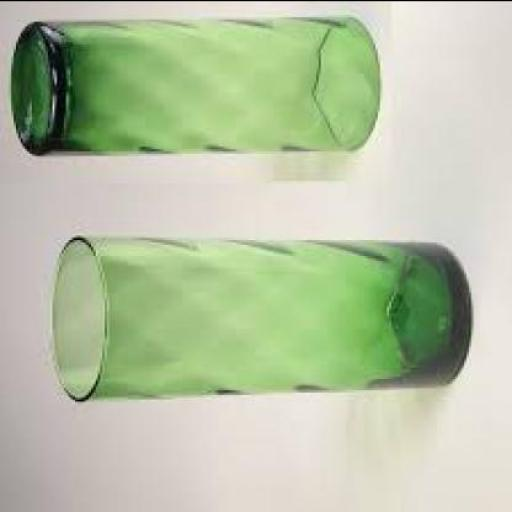glass: (50, 232, 471, 398), (6, 11, 378, 150)
